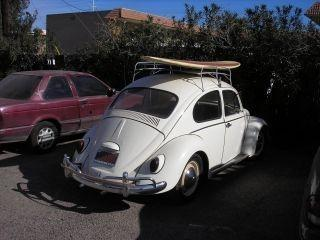car: (62, 53, 266, 198), (0, 67, 119, 150)
